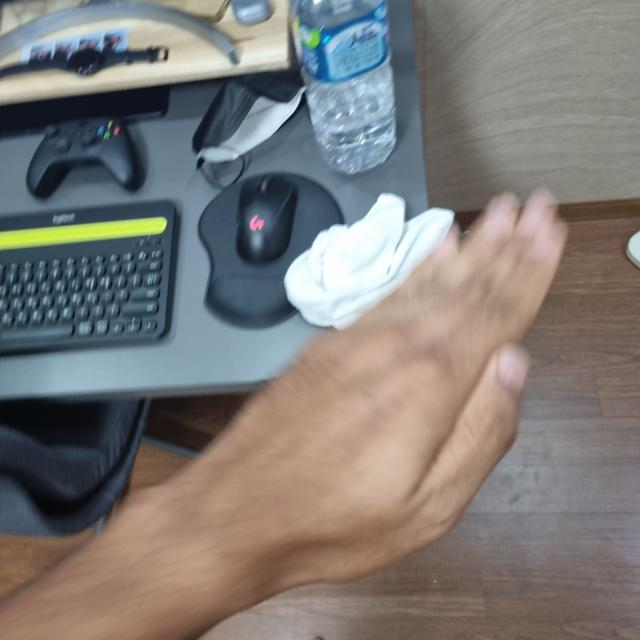Paper: (188, 202, 558, 583)
